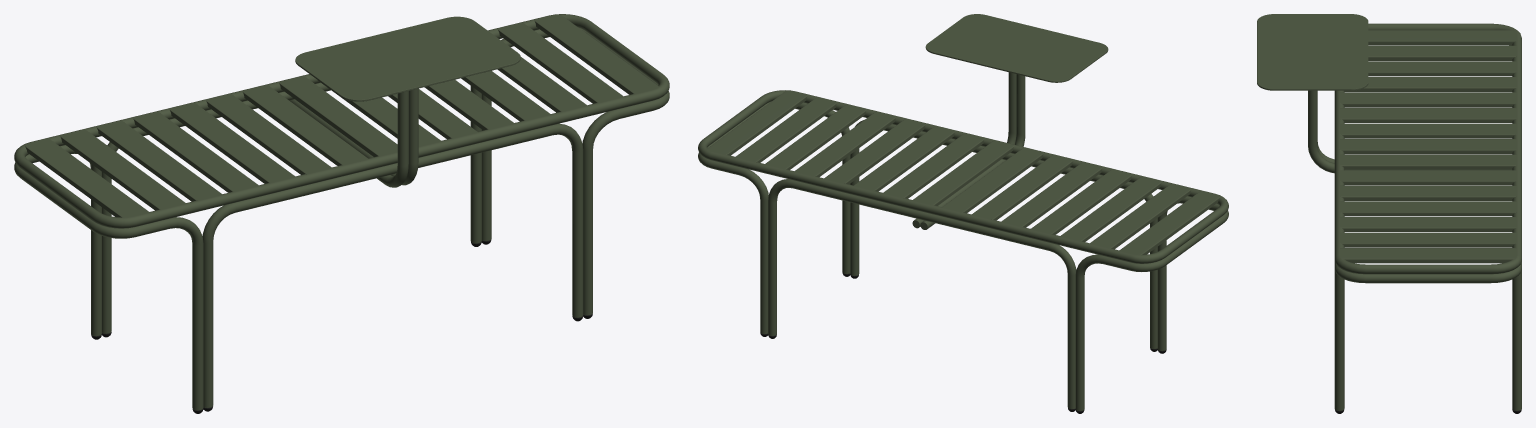
The model's file is bench-2-table.glb.
3 renders of one model, left to right at view 1: azimuth 30°, elevation 25°; view 2: azimuth 150°, elevation 25°; view 3: azimuth 270°, elevation 25°, orthographic. The views are drawn at different scales.
Parts seen in each view (by area): view 1: rb_bench_flat_table; view 2: rb_bench_flat_table; view 3: rb_bench_flat_table.
Boxes of the visible parts, <box> form: rb_bench_flat_table: <box>14,14,669,413</box>; rb_bench_flat_table: <box>698,14,1228,413</box>; rb_bench_flat_table: <box>1257,14,1521,413</box>.
Bounding box in the file's own units: 1.3 × 0.69 × 0.5943.
